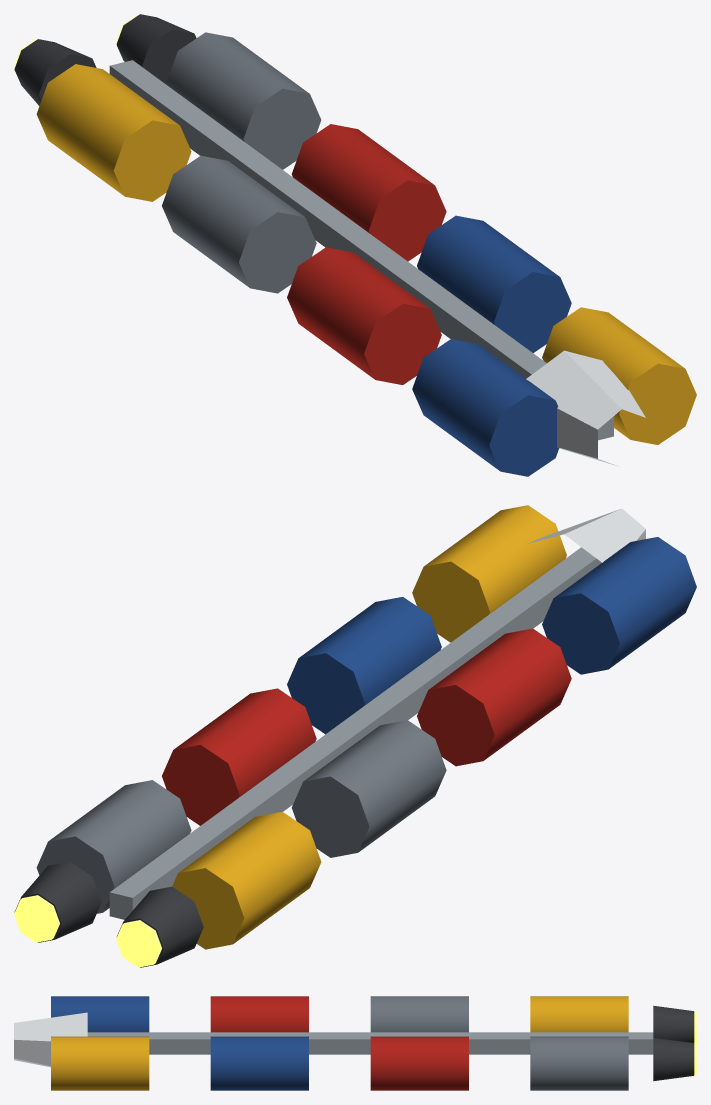
Rendered from space_ship_logistics_mk2.glb.
The picture shows the model from 3 angles, top to bottom: view 1: azimuth 30°, elevation 25°; view 2: azimuth 150°, elevation 25°; view 3: azimuth 270°, elevation 25°; orthographic projection. The views are drawn at different scales.
Visible parts, largest first — view 1: body, pod_1_0, pod_2_0, pod_0_0, pod_3_0, pod_0_1, pod_1_1, pod_2_1, pod_3_1, engine_0, engine_1; view 2: body, pod_2_0, pod_1_0, pod_3_0, pod_0_0, pod_1_1, pod_2_1, pod_3_1, pod_0_1, engine_0, engine_1; view 3: body, pod_0_1, pod_1_1, pod_2_1, pod_3_1, pod_0_0, pod_1_0, pod_2_0, pod_3_0, engine_0, engine_1.
Boxes of the visible parts, box(x1,y1,x2,y2) form: body: box(109, 60, 645, 466); pod_1_0: box(162, 155, 316, 293); pod_2_0: box(287, 247, 441, 384); pod_0_0: box(36, 64, 191, 201); pod_3_0: box(412, 339, 559, 476); pod_0_1: box(166, 32, 321, 169); pod_1_1: box(291, 124, 446, 261); pod_2_1: box(417, 215, 571, 352); pod_3_1: box(542, 307, 696, 444); engine_0: box(116, 14, 196, 85); engine_1: box(14, 39, 96, 105); body: box(109, 508, 645, 919); pod_2_0: box(417, 628, 571, 766); pod_1_0: box(291, 720, 446, 857); pod_3_0: box(542, 537, 696, 674); pod_0_0: box(172, 811, 321, 949); pod_1_1: box(162, 688, 316, 825); pod_2_1: box(287, 597, 441, 734); pod_3_1: box(412, 505, 566, 642); pod_0_1: box(36, 780, 191, 913); engine_0: box(14, 861, 101, 942); engine_1: box(116, 886, 203, 967); body: box(14, 1012, 653, 1067); pod_0_1: box(530, 1036, 628, 1090); pod_1_1: box(370, 1036, 468, 1090); pod_2_1: box(210, 1036, 308, 1090); pod_3_1: box(51, 1036, 149, 1090); pod_0_0: box(530, 996, 628, 1032); pod_1_0: box(370, 996, 468, 1032); pod_2_0: box(210, 996, 308, 1032); pod_3_0: box(51, 996, 149, 1032); engine_0: box(653, 1037, 696, 1081); engine_1: box(653, 1005, 696, 1042).
Size of what is drawn, in the model's own units: 7.26 by 3.24 by 32.35.
